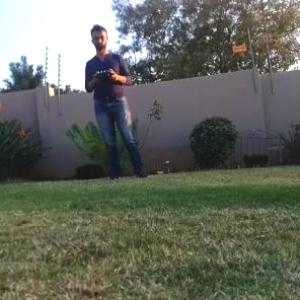follow: (83, 18, 155, 184)
